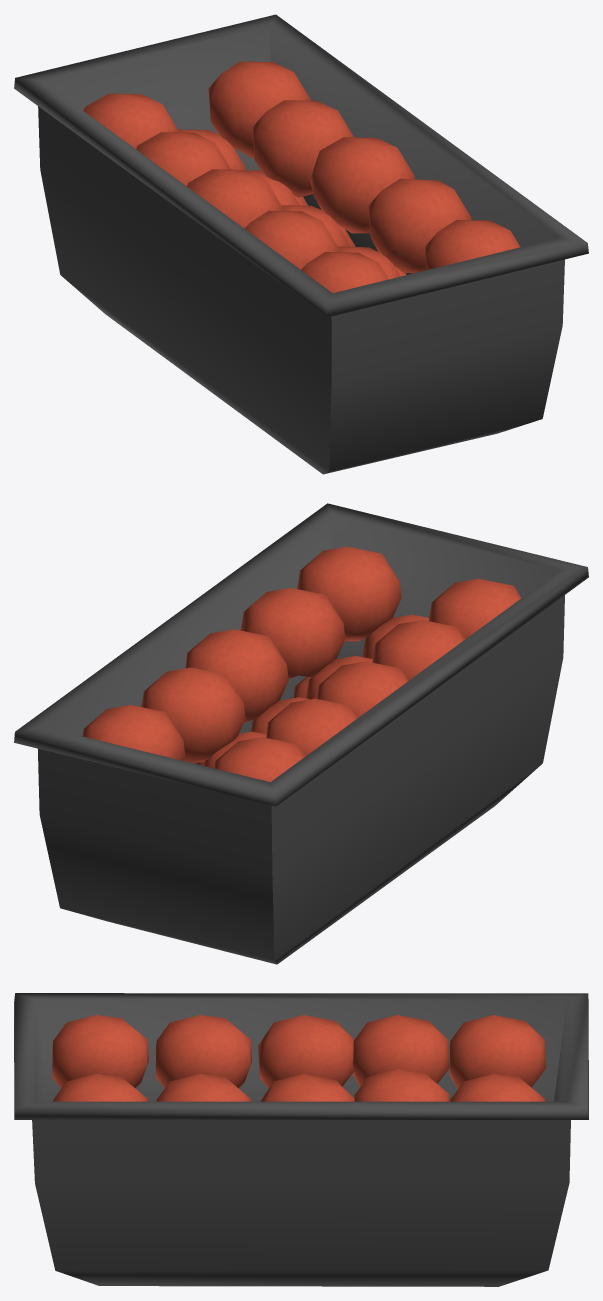
The model's file is TomatoSpawner.fbx.
3 views of the same model, one above another, from view 1: azimuth 30°, elevation 25°; view 2: azimuth 150°, elevation 25°; view 3: azimuth 270°, elevation 25° (orthographic). The views are drawn at different scales.
Visible parts, largest first — view 1: TomatoSpawner; view 2: TomatoSpawner; view 3: TomatoSpawner.
Boxes of the visible parts, x1,y1,x2,y2 form: TomatoSpawner: (14, 14, 588, 474); TomatoSpawner: (14, 503, 588, 964); TomatoSpawner: (14, 993, 588, 1286).
Bounding box in the file's own units: 240 × 189 × 498.
